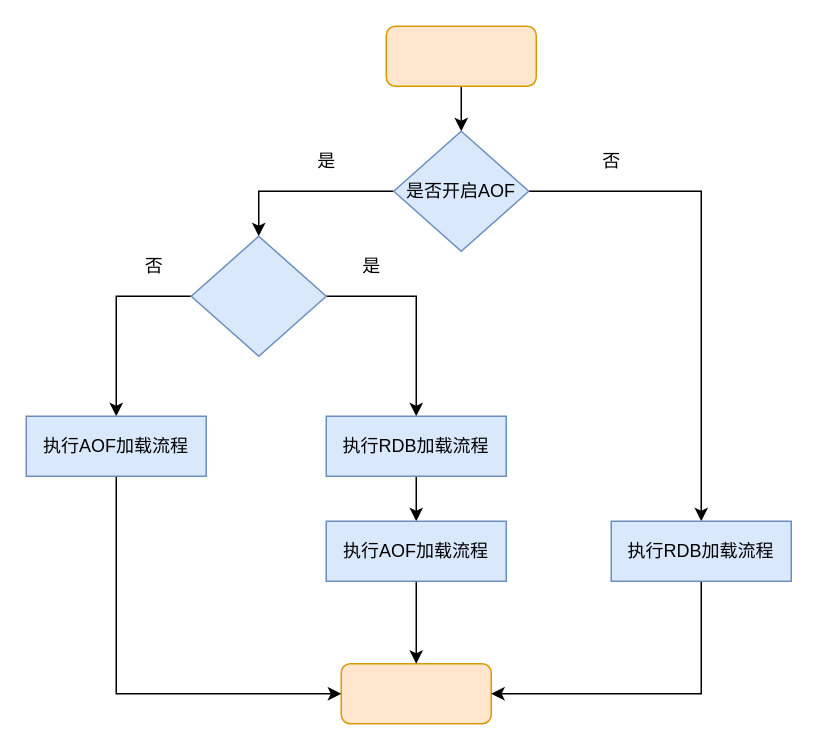
This 818x750 diagram has some shape labels left out. Each missing label, with the centre of its shape:
"开始加载" goes at pixel 460 55.
"是否RDB头？" goes at pixel 258 295.
"结束" goes at pixel 415 693.
